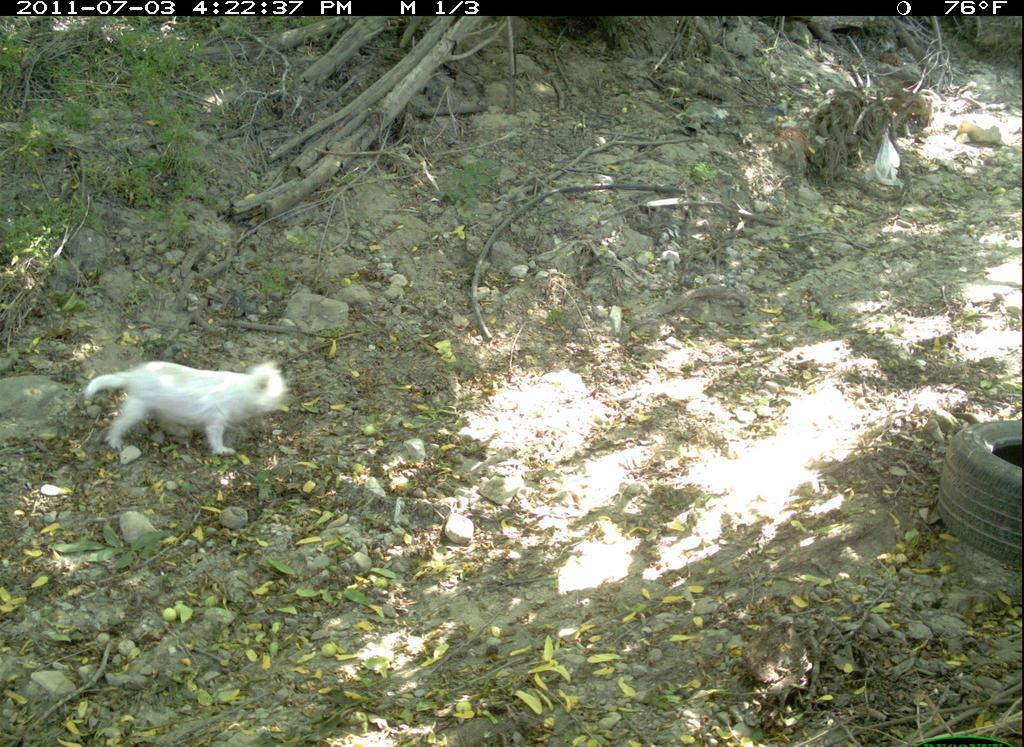dog: (85, 351, 295, 472)
